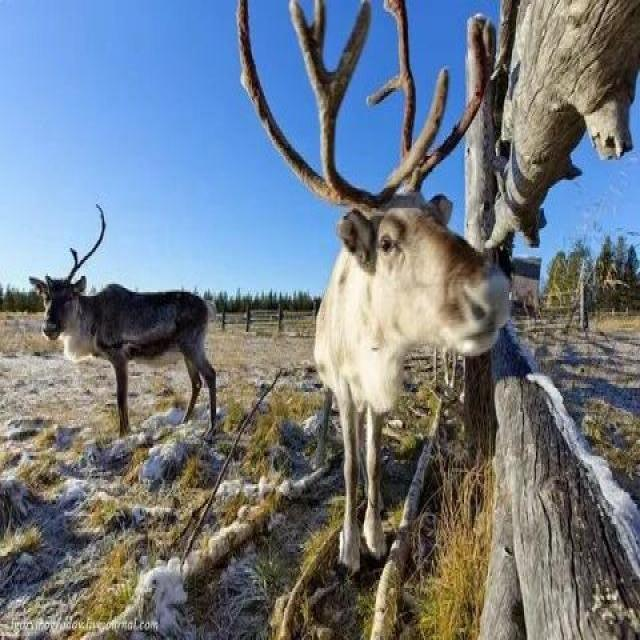deer: (274, 132, 494, 552), (13, 227, 248, 477)
